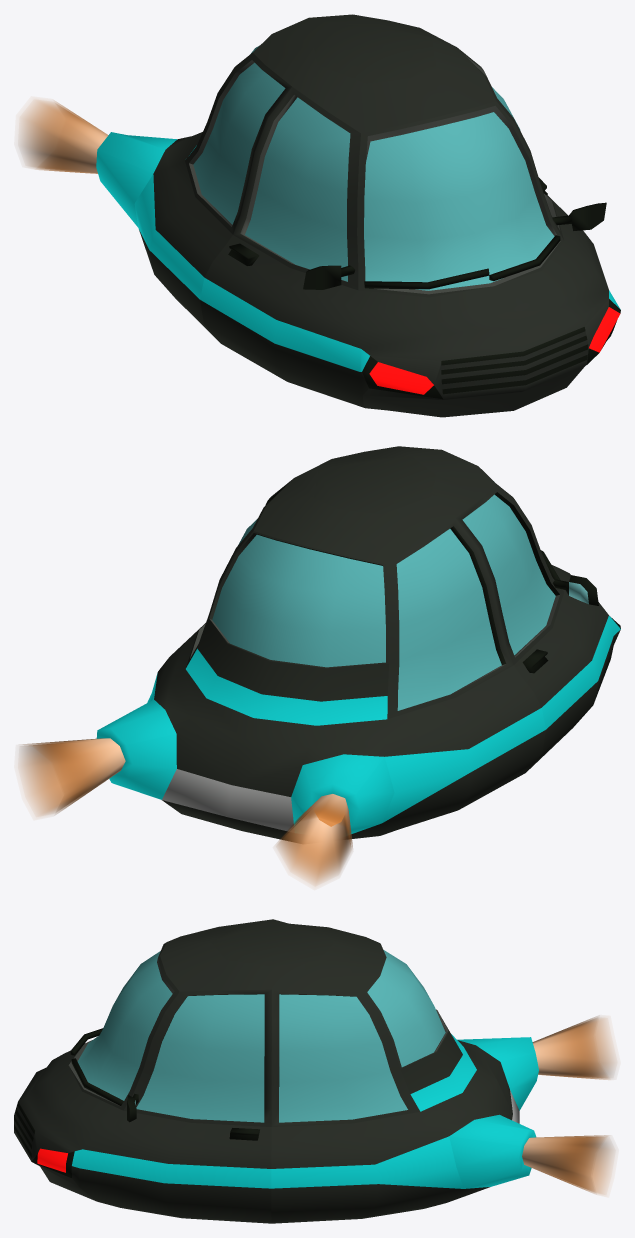
The model's file is Flying_Car_Black.glb.
The picture shows the model from 3 angles, top to bottom: view 1: azimuth 30°, elevation 25°; view 2: azimuth 150°, elevation 25°; view 3: azimuth 270°, elevation 25°; orthographic projection. The views are drawn at different scales.
Visible parts, largest first — view 1: flyingCar_Black; view 2: flyingCar_Black; view 3: flyingCar_Black.
Boxes of the visible parts, x1=… form: flyingCar_Black: x1=18, y1=14, x2=620, y2=417; flyingCar_Black: x1=18, y1=446, x2=620, y2=886; flyingCar_Black: x1=14, y1=919, x2=616, y2=1223.
Size of what is drawn, in the model's own units: 2.79 by 2.22 by 4.98.
2 materials, 2 textured.
